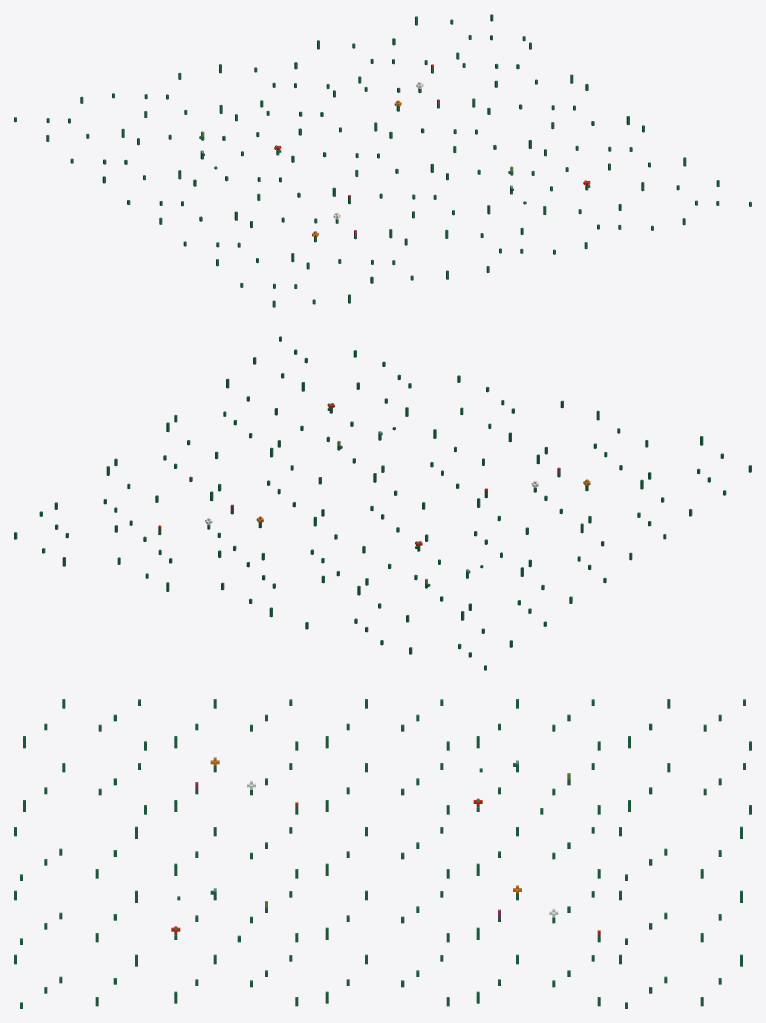
File: flores 2.glb
3 views of the same model, one above another, from view 1: azimuth 30°, elevation 25°; view 2: azimuth 150°, elevation 25°; view 3: azimuth 270°, elevation 25° (orthographic). The views are drawn at different scales.
Parts seen in each view (by area): view 1: untitled; view 2: untitled; view 3: untitled.
Part boxes in pixels (x1=…): untitled: x1=14, y1=14, x2=751, y2=307; untitled: x1=14, y1=336, x2=751, y2=670; untitled: x1=14, y1=699, x2=751, y2=1008.
Size of the model in its own units: 23.8 by 0.5 by 24.4.
Materials: 1 (1 with a texture image).
